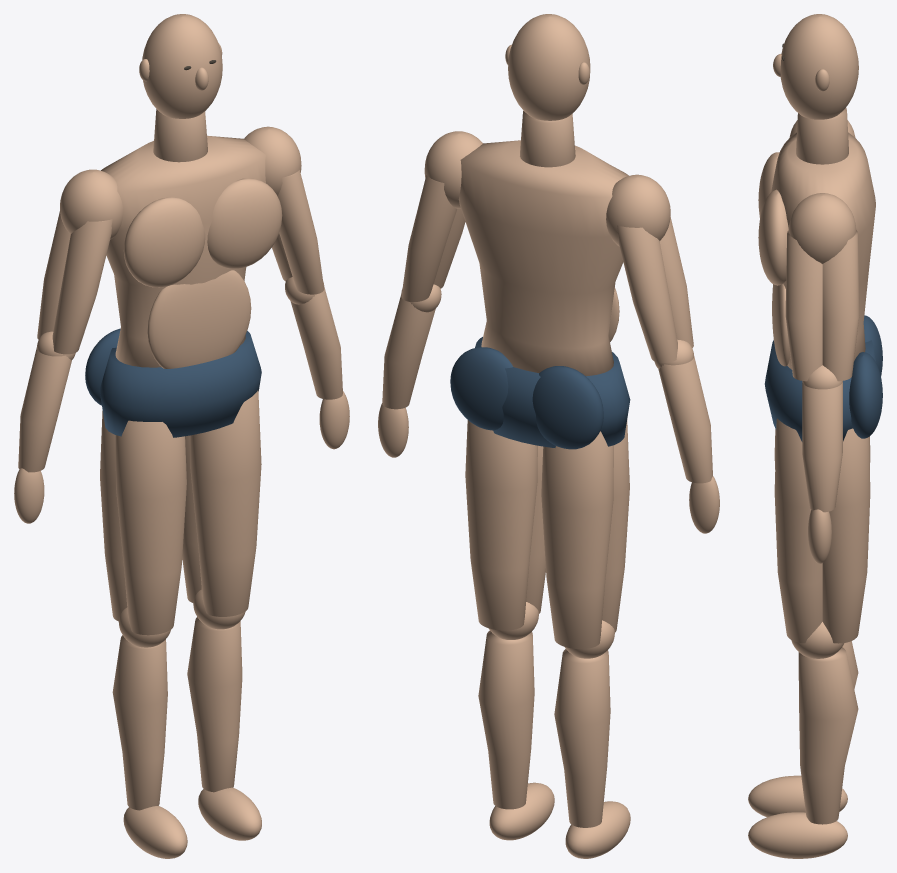
File: male.glb
3 views of the same model, side by side, from view 1: azimuth 30°, elevation 25°; view 2: azimuth 150°, elevation 25°; view 3: azimuth 270°, elevation 25° (orthographic).
Visible parts, largest first — view 1: quadriceps_right, torso, quadriceps_left, briefs, abs, calves_left, calves_right, head, chest_right, chest_left, biceps_right, forearms_right (+15 smaller); view 2: torso, hamstrings_right, hamstrings_left, calves_left, calves_right, head, triceps_right, glutes_right, briefs, forearms_right, triceps_left, glutes_left (+14 smaller); view 3: calves_left, hamstrings_left, quadriceps_left, torso, head, forearms_left, triceps_left, biceps_left, foot_left, shoulders_left, briefs, neck (+10 smaller).
Boxes of the visible parts, <box> form: quadriceps_right: <box>115,420,186,635</box>; torso: <box>101,135,265,367</box>; quadriceps_left: <box>190,390,261,616</box>; briefs: <box>99,330,261,437</box>; abs: <box>147,270,251,368</box>; calves_left: <box>187,617,242,792</box>; calves_right: <box>112,635,167,810</box>; head: <box>142,14,222,118</box>; chest_right: <box>123,197,205,287</box>; chest_left: <box>207,178,282,268</box>; biceps_right: <box>52,219,112,354</box>; forearms_right: <box>18,347,71,472</box>; torso: <box>458,140,628,376</box>; hamstrings_right: <box>541,431,613,649</box>; hamstrings_left: <box>465,420,537,630</box>; calves_left: <box>478,630,534,809</box>; calves_right: <box>554,649,610,827</box>; head: <box>508,14,590,120</box>; triceps_right: <box>617,225,677,362</box>; glutes_right: <box>532,366,603,449</box>; briefs: <box>475,337,630,447</box>; forearms_right: <box>658,356,712,483</box>; triceps_left: <box>401,175,456,301</box>; glutes_left: <box>450,347,512,430</box>; calves_left: <box>798,647,858,824</box>; hamstrings_left: <box>822,428,870,643</box>; quadriceps_left: <box>774,418,822,643</box>; torso: <box>771,132,875,369</box>; head: <box>780,14,858,119</box>; forearms_left: <box>802,382,842,512</box>; triceps_left: <box>822,230,859,381</box>; biceps_left: <box>785,230,822,381</box>; foot_left: <box>748,812,847,858</box>; shoulders_left: <box>788,193,856,263</box>; briefs: <box>764,340,876,441</box>; neck: <box>796,108,848,164</box>.
Size of the model in its own units: 0.742 by 1.74 by 0.259.
